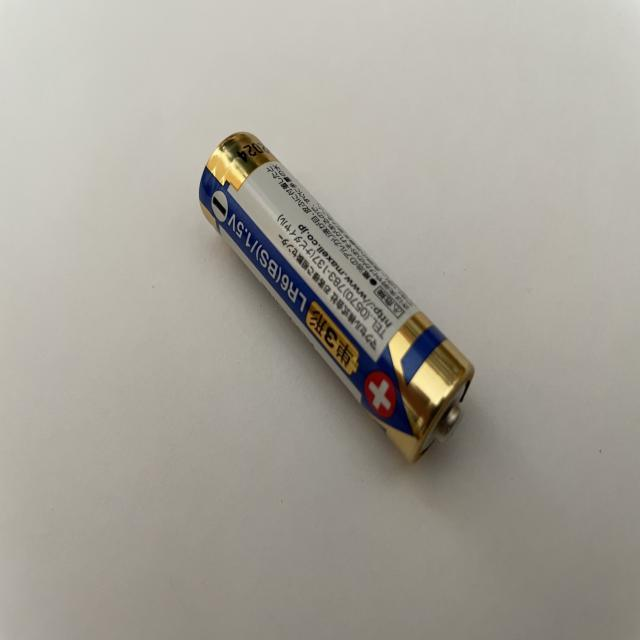hazardous waste: (197, 128, 477, 468)
